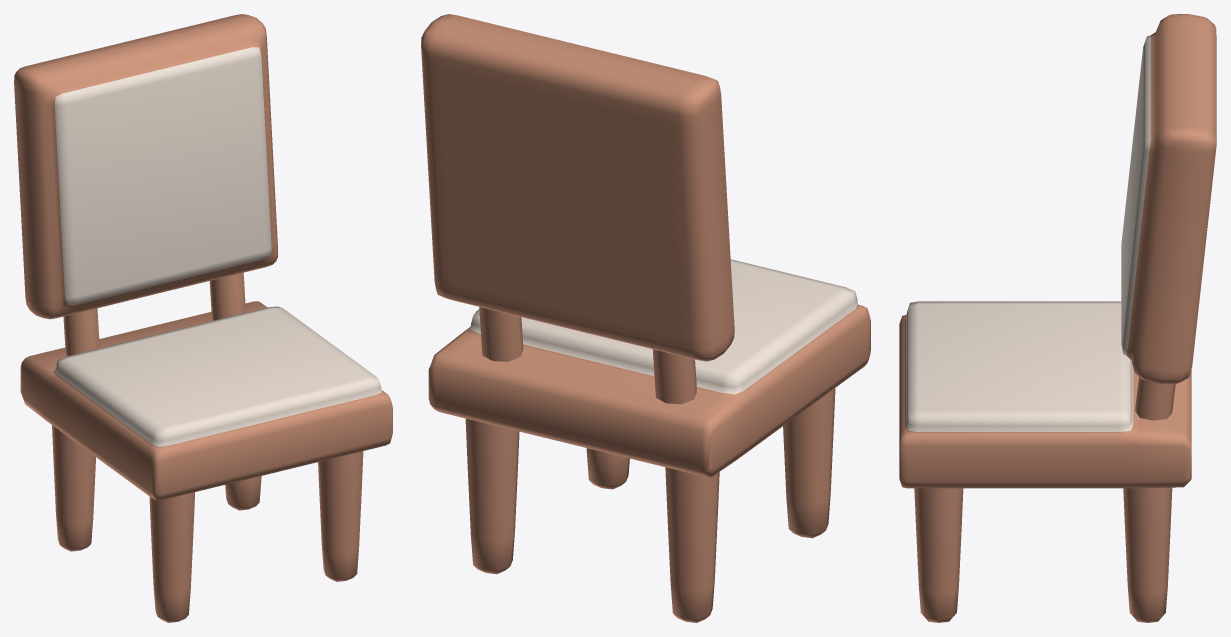
File: Chair.glb
3 views of the same model, side by side, from view 1: azimuth 30°, elevation 25°; view 2: azimuth 150°, elevation 25°; view 3: azimuth 270°, elevation 25° (orthographic). The views are drawn at different scales.
Parts seen in each view (by area): view 1: Chair; view 2: Chair; view 3: Chair.
Boxes of the visible parts, box(x1,y1,x2,y2) form: Chair: box(14, 14, 392, 622); Chair: box(421, 14, 870, 622); Chair: box(899, 14, 1216, 622).
Bounding box in the file's own units: 1.99 × 3.73 × 2.14.
1 material, 1 textured.
